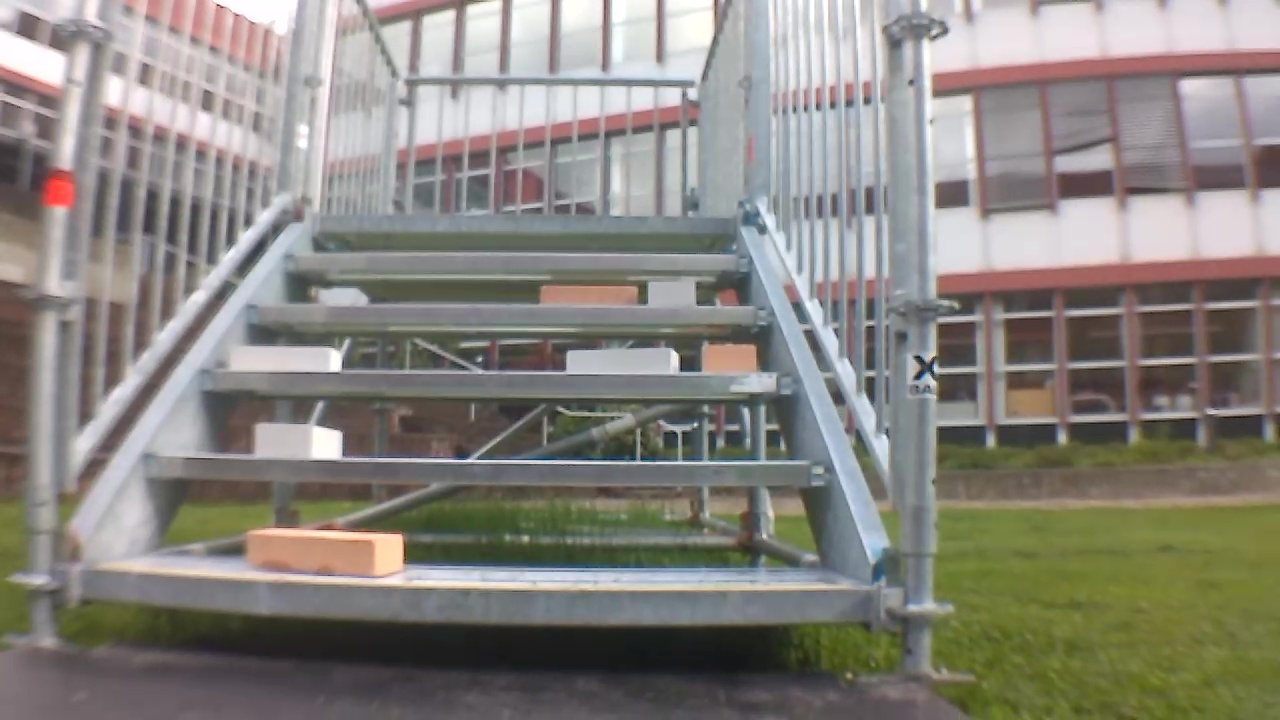brick: (247, 530, 402, 577), (230, 345, 342, 372), (257, 423, 341, 458), (567, 349, 678, 373), (542, 286, 638, 305), (701, 345, 756, 371), (649, 283, 695, 305)
edge: (84, 568, 876, 625), (144, 454, 832, 484), (202, 371, 794, 395), (249, 303, 770, 325), (286, 251, 751, 271), (315, 214, 735, 234)
stairs: (22, 3, 951, 685)
steps: (77, 204, 881, 632)
